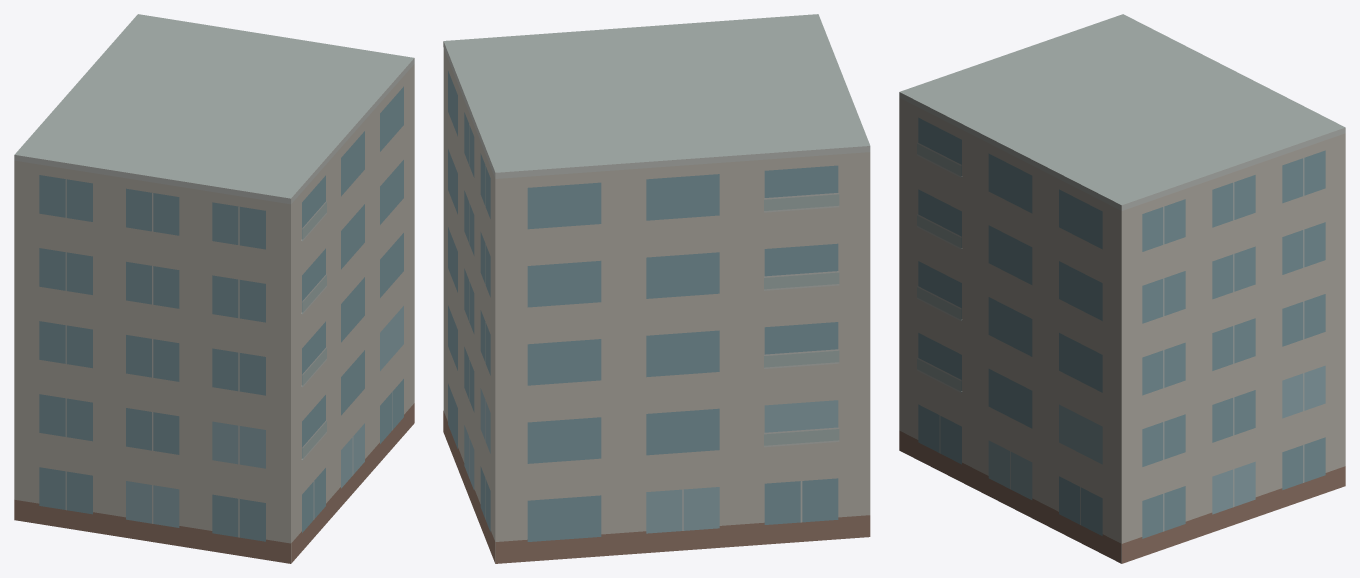
Rendered from survey-upis-32832711.glb.
The picture shows the model from 3 angles, left to right: view 1: azimuth 30°, elevation 25°; view 2: azimuth 150°, elevation 25°; view 3: azimuth 270°, elevation 25°; orthographic projection. The views are drawn at different scales.
Visible parts, largest first — view 1: survey-upis-32832711.tmp; view 2: survey-upis-32832711.tmp; view 3: survey-upis-32832711.tmp.
Part boxes in pixels (<box>): survey-upis-32832711.tmp: <box>14,14,414,563</box>; survey-upis-32832711.tmp: <box>443,14,870,563</box>; survey-upis-32832711.tmp: <box>899,14,1345,563</box>.
Bounding box in the file's own units: 17.52 × 15.3 × 17.27.
